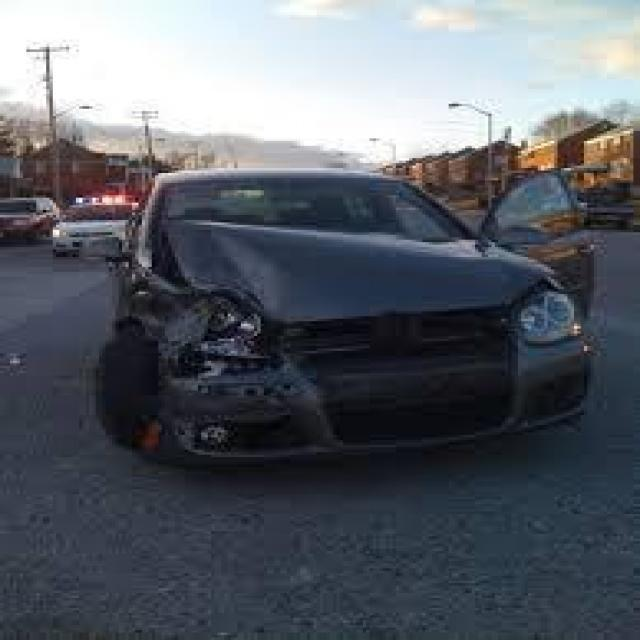damaged: (138, 230, 297, 398)
